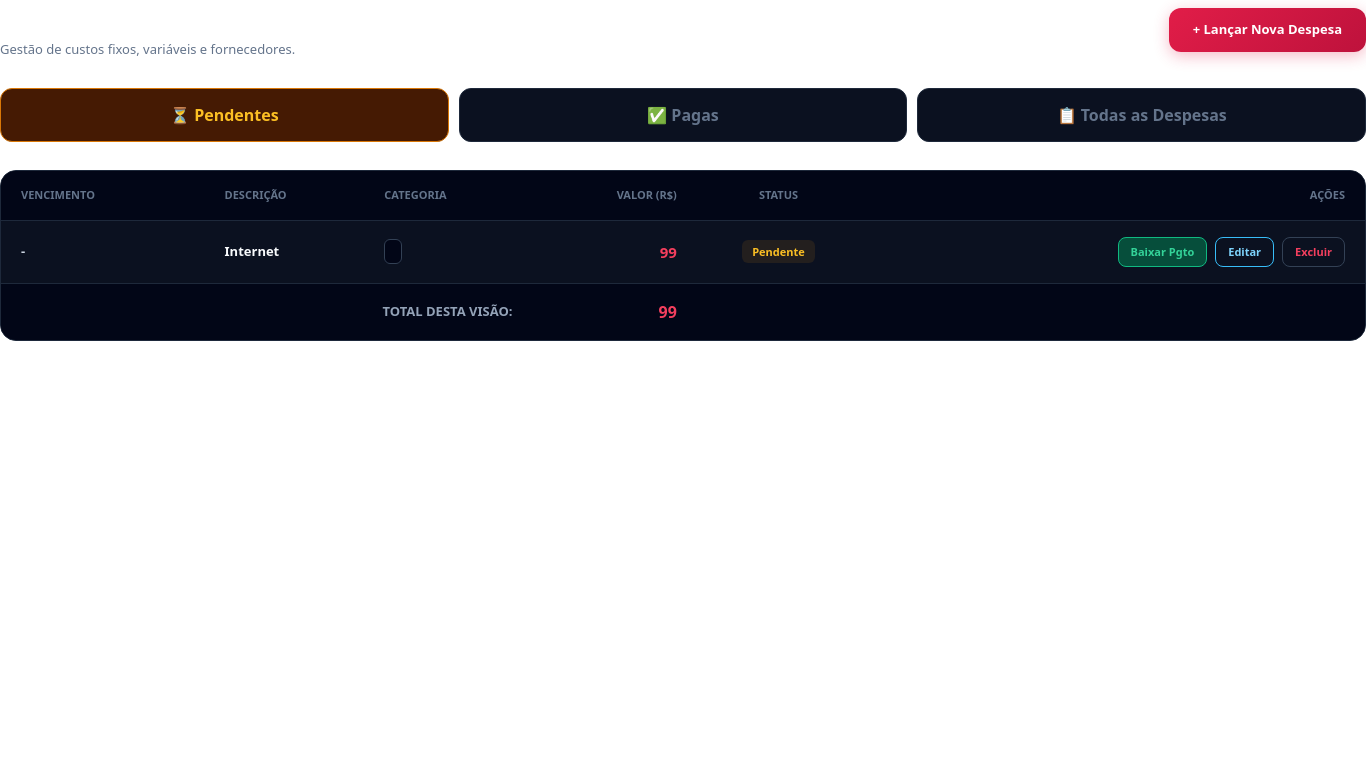
Test: falha na nuvem mantém dado e aviso sem confirmação
The image size is (1366, 768).
What coordinates should you click on to do the following:
click the button "Excluir"
I would click on:
 (1314, 252)
Its box is [1282, 236, 1345, 267].
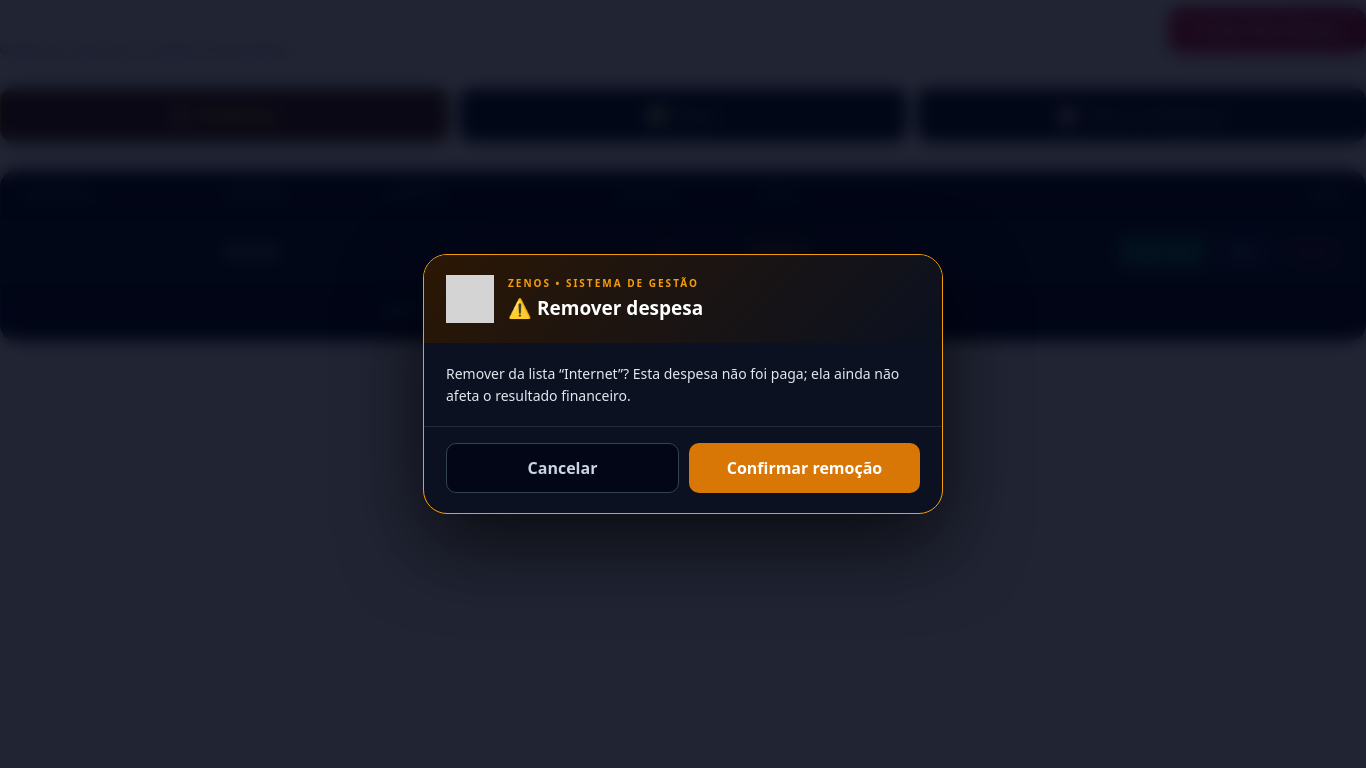
What coordinates should you click on to do the following:
click the button "Confirmar remoção"
I would click on:
 (804, 468)
Its box is [689, 443, 920, 493].
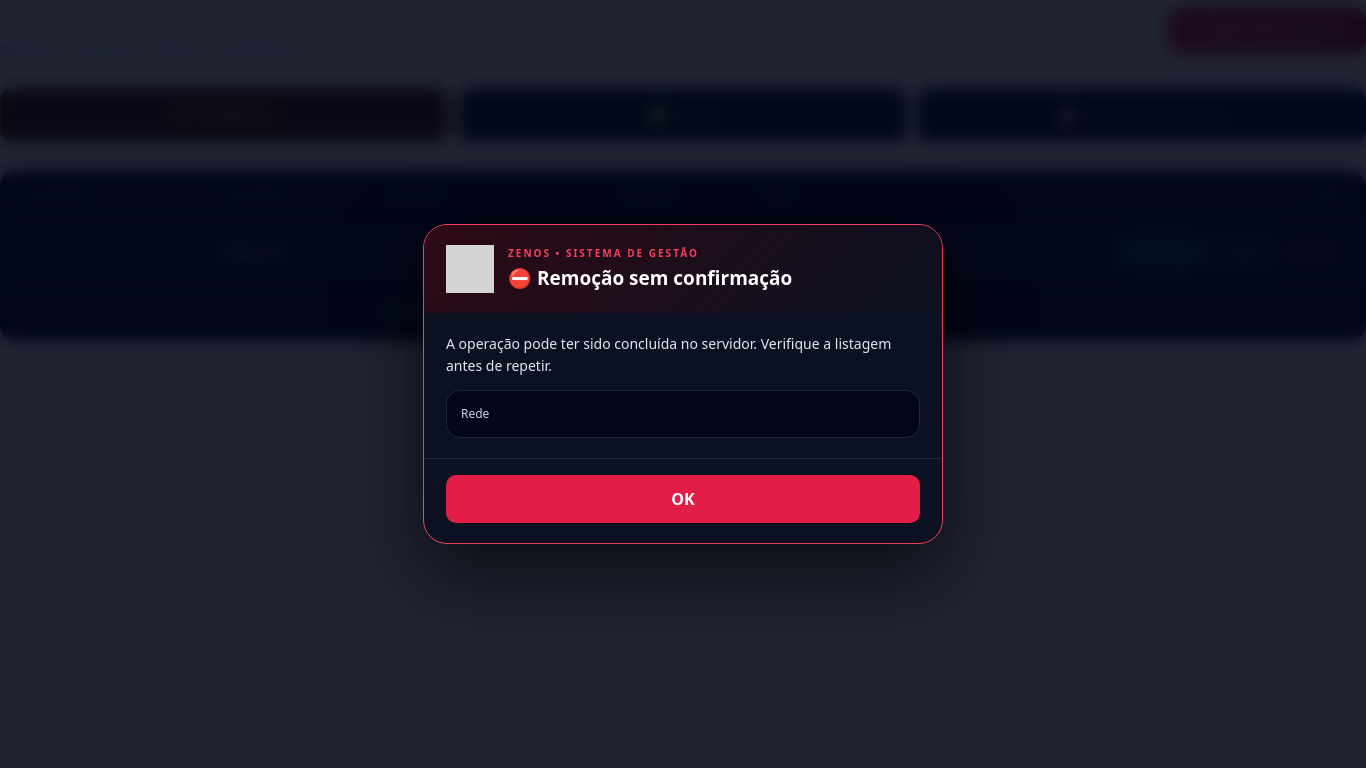
Expected: the text "⛔ Remoção sem confirmação" is shown, [508, 265, 792, 291]
